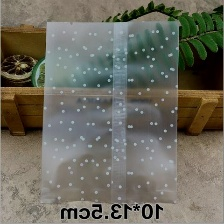snack: (33, 12, 186, 210)
